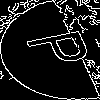P: (24, 25, 100, 70)
